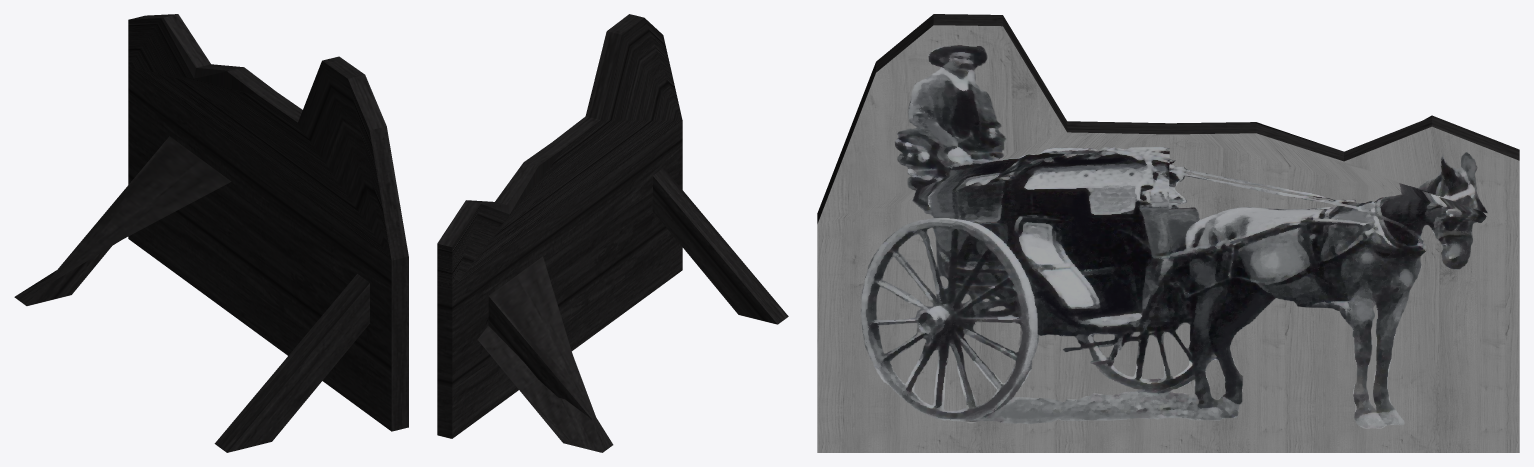
File: horse_cutout.fbx
The picture shows the model from 3 angles, left to right: view 1: azimuth 30°, elevation 25°; view 2: azimuth 150°, elevation 25°; view 3: azimuth 270°, elevation 25°; orthographic projection. The views are drawn at different scales.
Parts seen in each view (by area): view 1: Cube; view 2: Cube; view 3: Cube.
Boxes of the visible parts, x1=… form: Cube: x1=14, y1=14, x2=408, y2=452; Cube: x1=437, y1=14, x2=788, y2=452; Cube: x1=817, y1=14, x2=1519, y2=452.
Size of the model in its own units: 0.9805 by 1.89 by 2.79.
